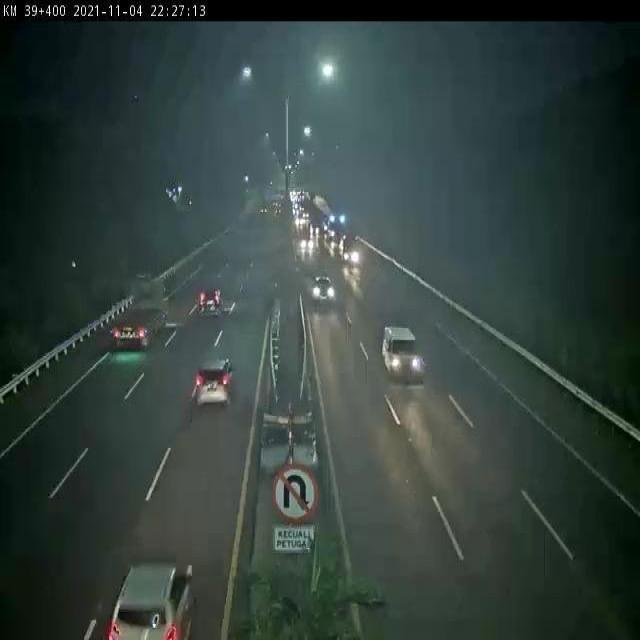car: (380, 322, 424, 382), (192, 356, 235, 407), (195, 286, 226, 318), (312, 275, 336, 304)
truck: (107, 274, 174, 350)
